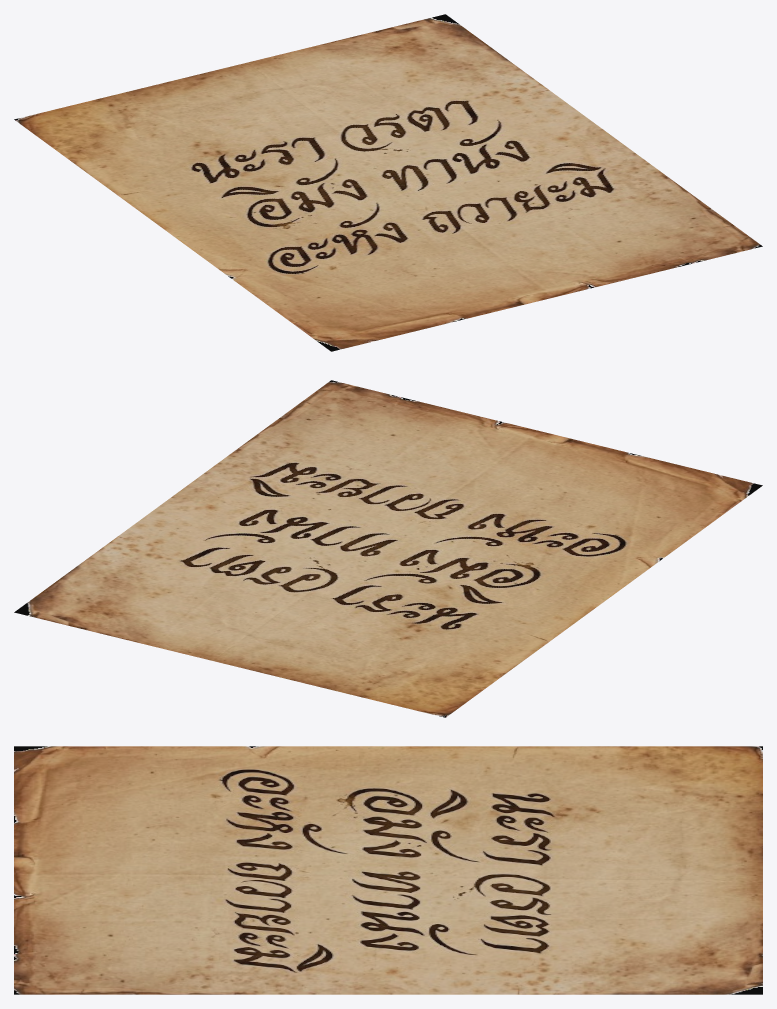
3 renders of one model, top to bottom at view 1: azimuth 30°, elevation 25°; view 2: azimuth 150°, elevation 25°; view 3: azimuth 270°, elevation 25°, orthographic. The views are drawn at different scales.
Parts seen in each view (by area): view 1: Plane, Plane.001; view 2: Plane, Plane.001; view 3: Plane, Plane.001.
Part boxes in pixels (<box>): Plane: <box>14,14,643,264</box>; Plane.001: <box>213,155,762,351</box>; Plane: <box>14,467,643,717</box>; Plane.001: <box>213,380,762,572</box>; Plane: <box>294,746,762,994</box>; Plane.001: <box>14,746,348,994</box>.
Size of the model in its own units: 1 by 0 by 1.27.
Materials: 1 (1 with a texture image).
